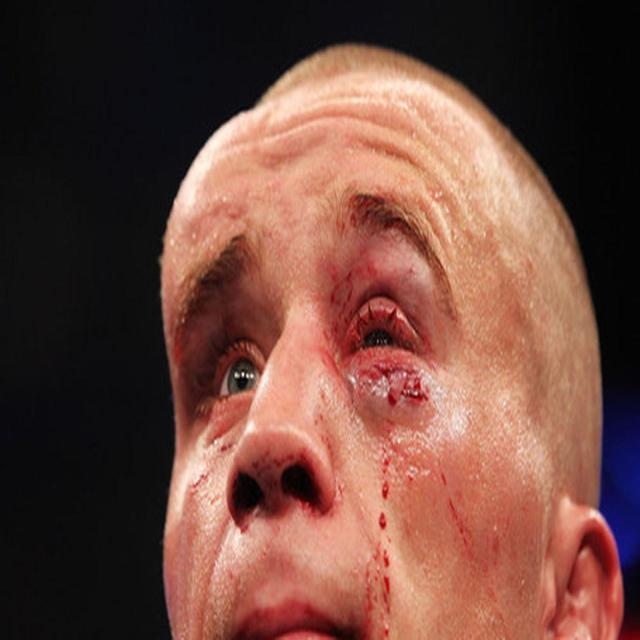flood: (328, 274, 477, 640)
